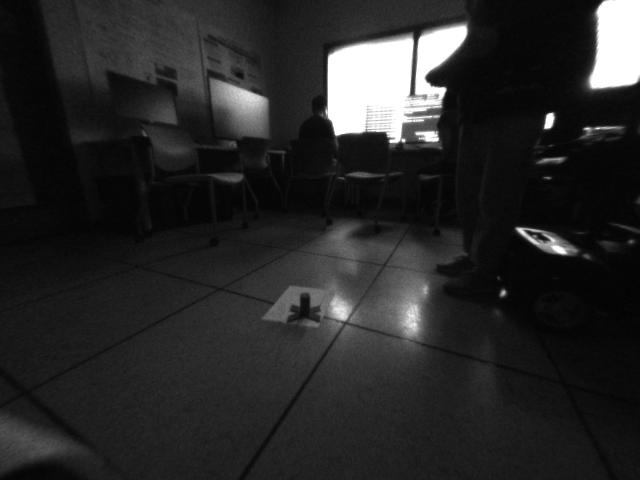x: (285, 292, 322, 323)
